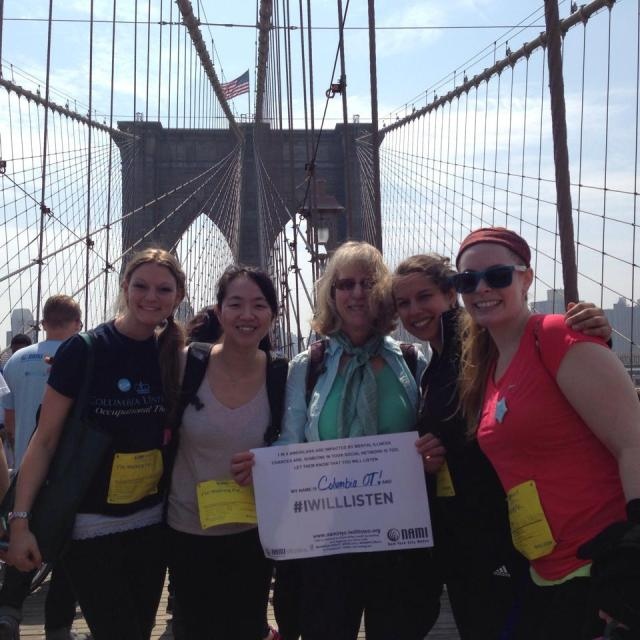body: (388, 252, 616, 640), (227, 240, 448, 640), (446, 223, 640, 640), (4, 244, 194, 640), (161, 262, 293, 640), (0, 290, 86, 480), (0, 325, 38, 475), (175, 302, 224, 379), (0, 601, 25, 639)
